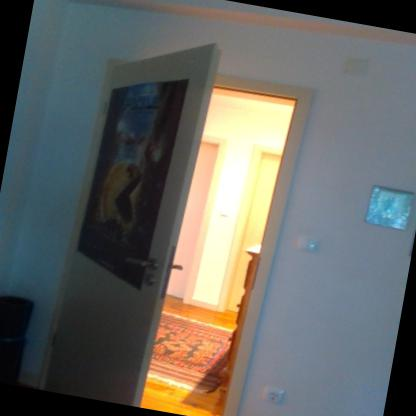semi: (36, 25, 322, 415)
